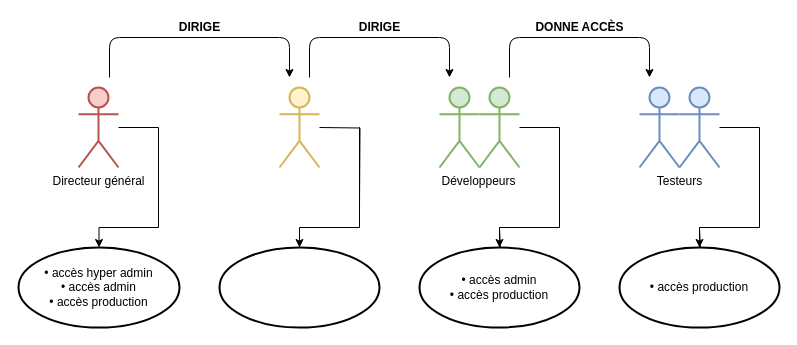
Image size: 797x345. Some labels were removed from this diagram. The shapes that lost their labels are listed below. From the top down, each one's centre as x and y in pixels, then its label:
At point (299, 127): "PDG".
At point (299, 287): "• accès admin • direction de l'équipe dev • accès production".
